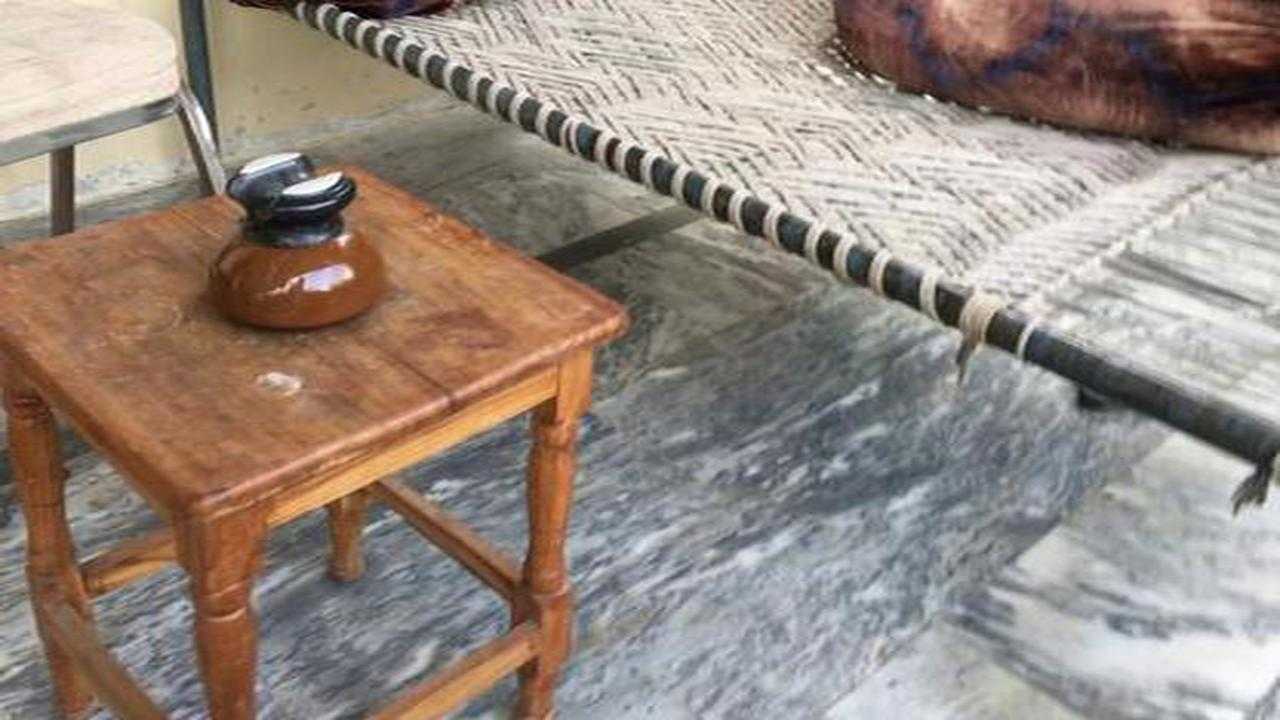insulator_pin: (184, 139, 407, 347)
